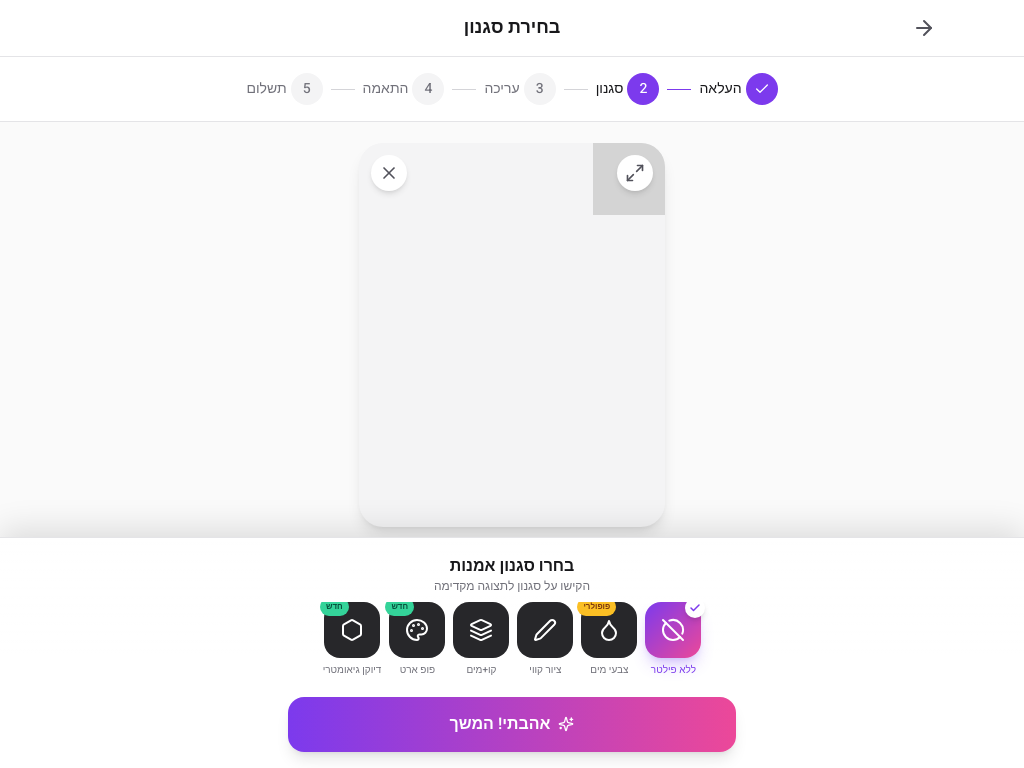
StylePage › AI Transform Integration › shows error message on transform failure
Click the button "פופולרי צבעי מים": (609, 640) [581,602,637,677]
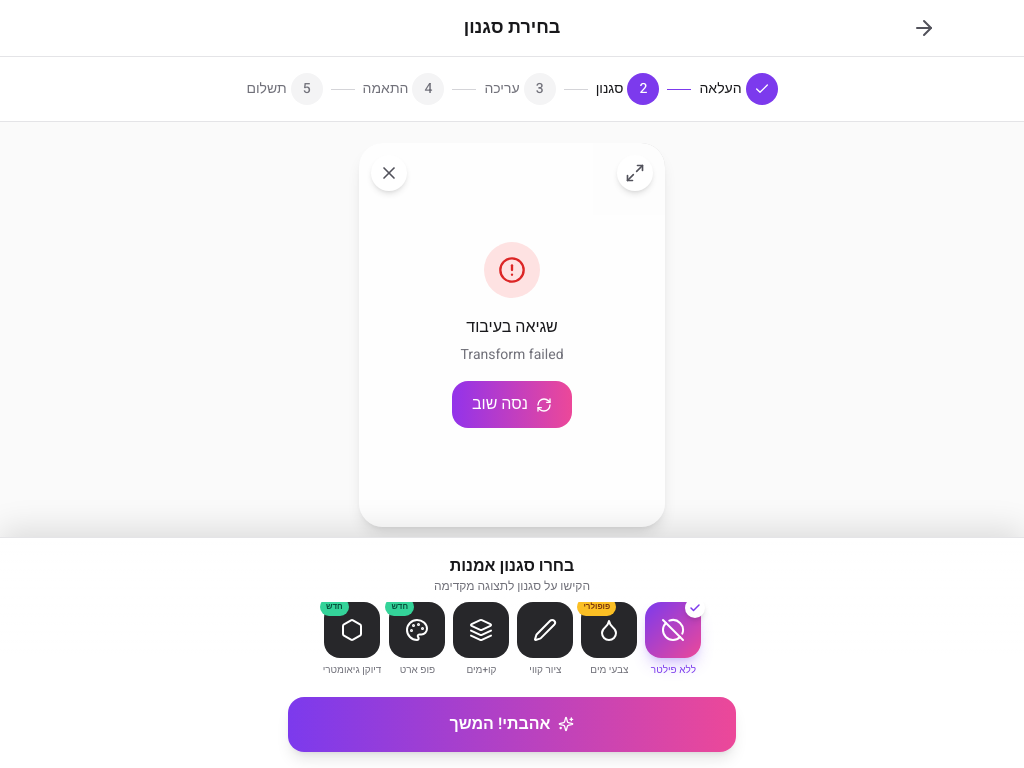
Result: the element with test id "transform-error" is shown at [359,143,665,527]
